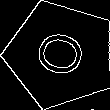O_E: (28, 27, 93, 83)
